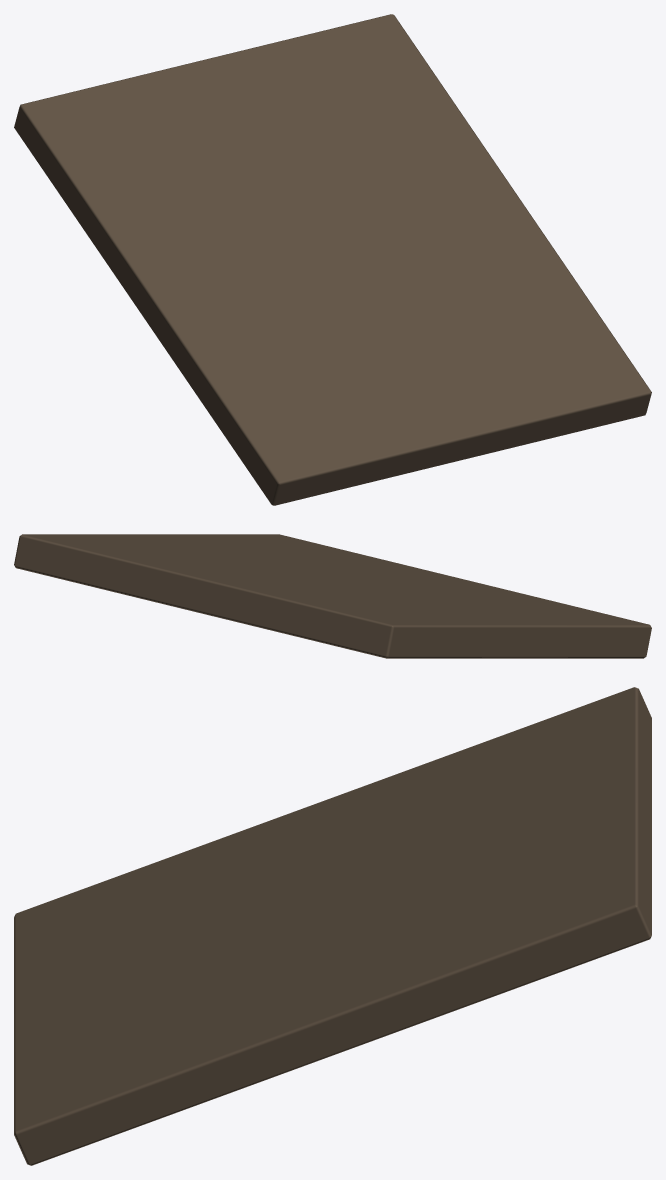
The model's file is ghost-town-roof-eave.532f2a00.glb.
3 views of the same model, one above another, from view 1: azimuth 30°, elevation 25°; view 2: azimuth 150°, elevation 25°; view 3: azimuth 270°, elevation 25° (orthographic). The views are drawn at different scales.
Parts seen in each view (by area): view 1: body; view 2: body; view 3: body.
Part boxes in pixels (x1,y1,x2,y2): body: (14,14,651,505); body: (14,534,651,658); body: (14,687,651,1165).
Bounding box in the file's own units: 1 × 0.5542 × 1.22.
